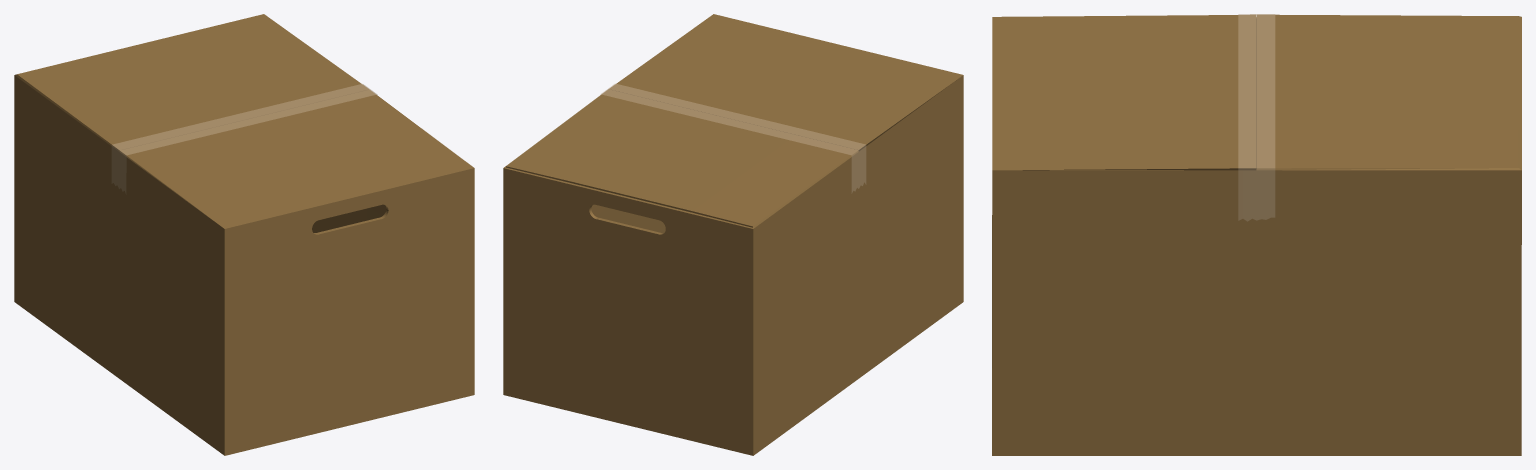
File: BoxCarton.fbx
3 renders of one model, left to right at view 1: azimuth 30°, elevation 25°; view 2: azimuth 150°, elevation 25°; view 3: azimuth 270°, elevation 25°, orthographic. The views are drawn at different scales.
Visible parts, largest first — view 1: Cube, Plane; view 2: Cube, Plane; view 3: Cube, Plane.
Boxes of the visible parts, left/top/right/bottom form: Cube: left=14, top=14, right=474, bottom=455; Plane: left=112, top=84, right=377, bottom=192; Cube: left=503, top=14, right=963, bottom=455; Plane: left=600, top=83, right=865, bottom=192; Cube: left=992, top=14, right=1521, bottom=455; Plane: left=1238, top=14, right=1275, bottom=221.
Size of the model in its own units: 201 by 175 by 292.
